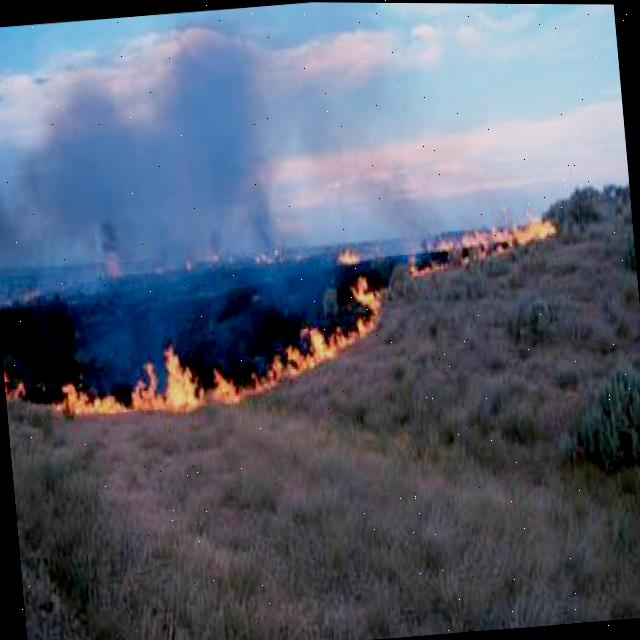fire: (52, 279, 383, 417), (389, 212, 560, 286)
smoke: (0, 85, 298, 367)
